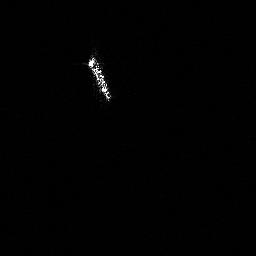ship: (84, 53, 114, 103)
